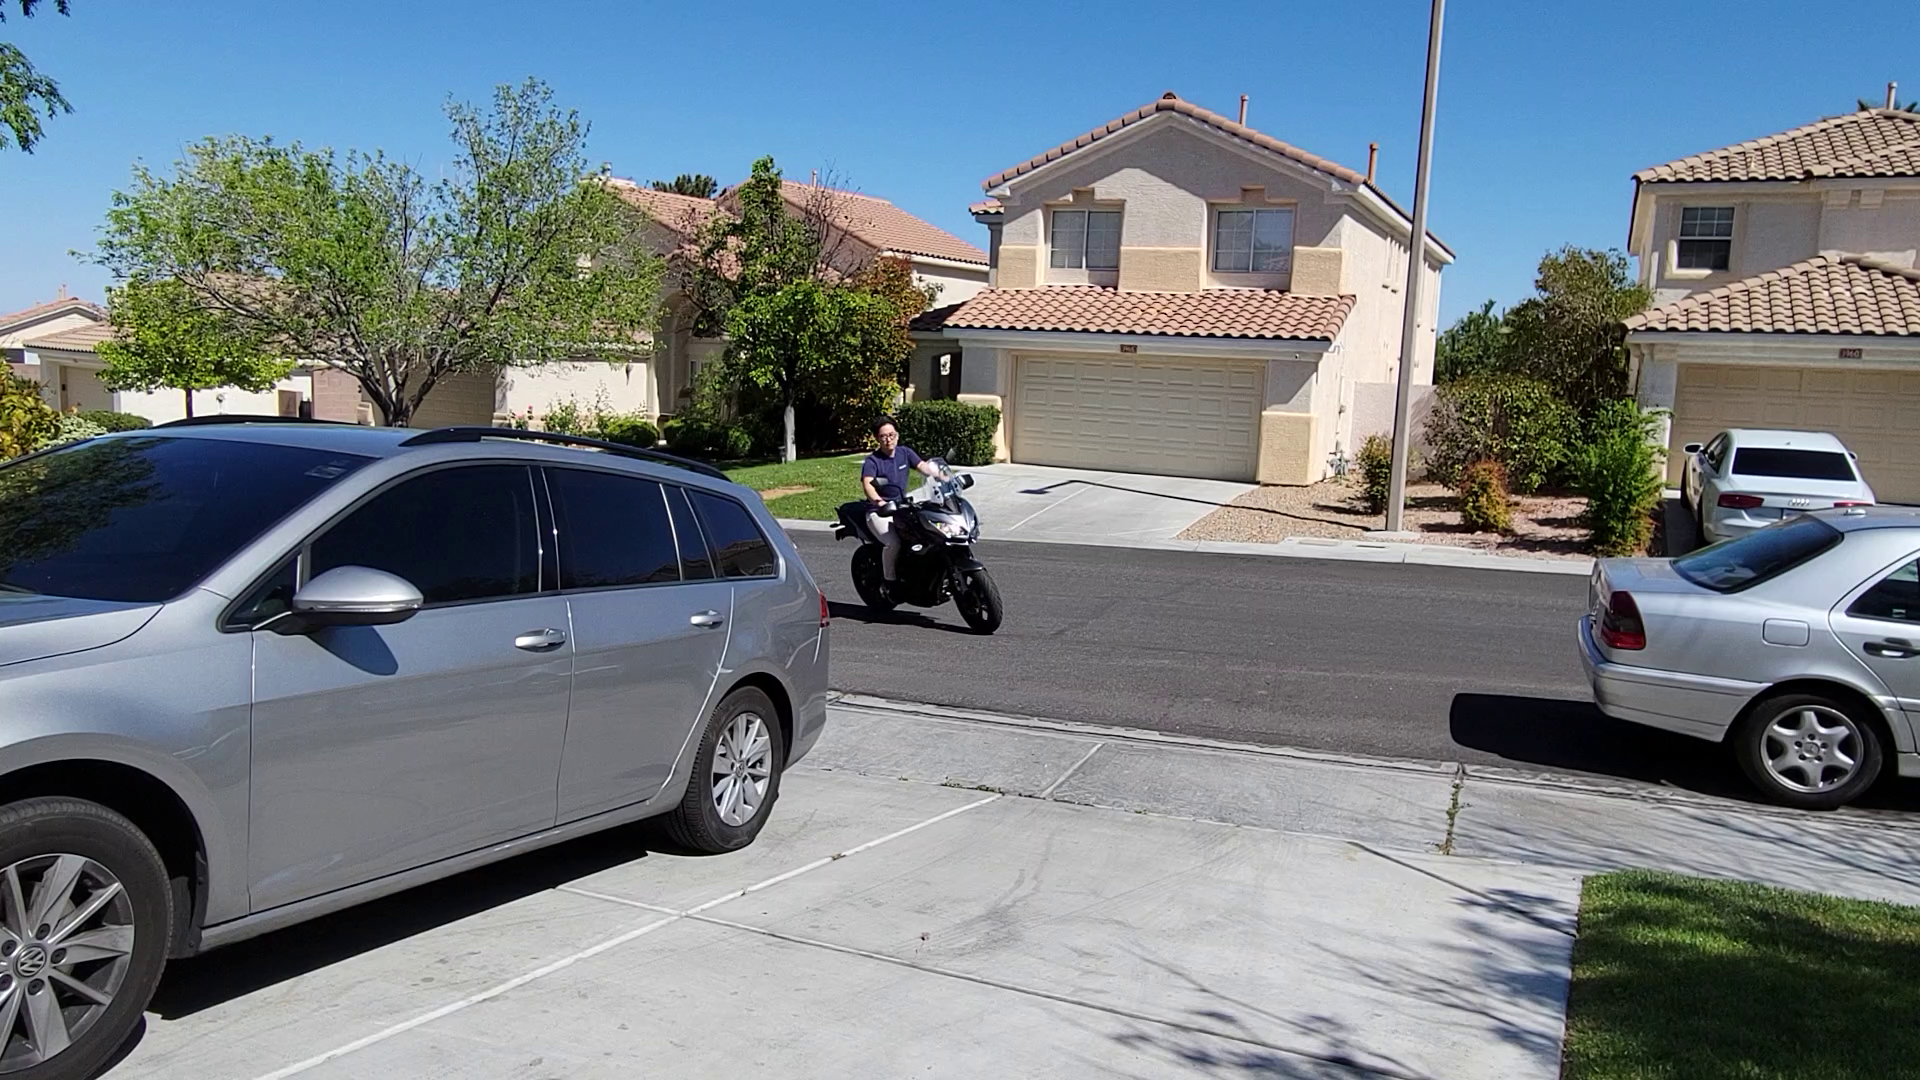my bike: (823, 405, 1004, 637)
